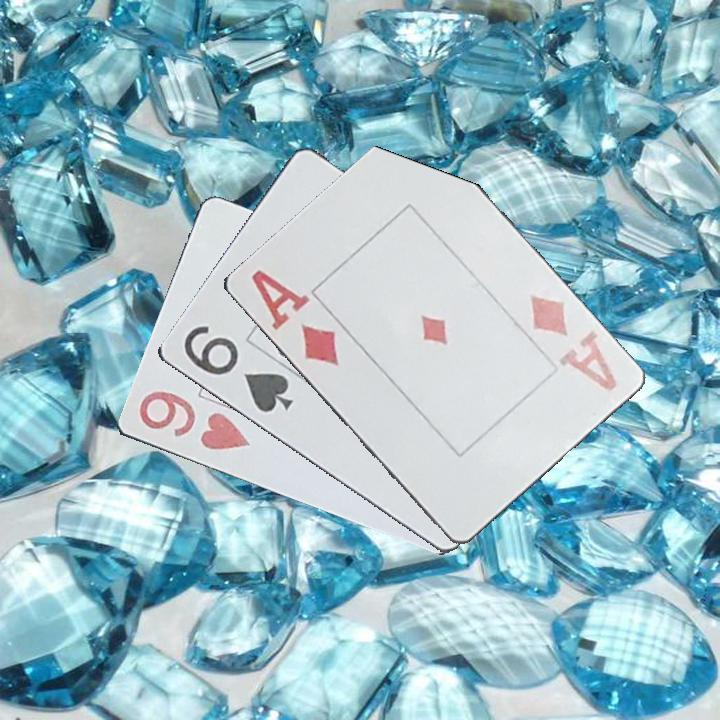6s: (179, 322, 296, 418)
9h: (134, 387, 253, 454)
Ad: (247, 266, 343, 370), (525, 290, 620, 394)
